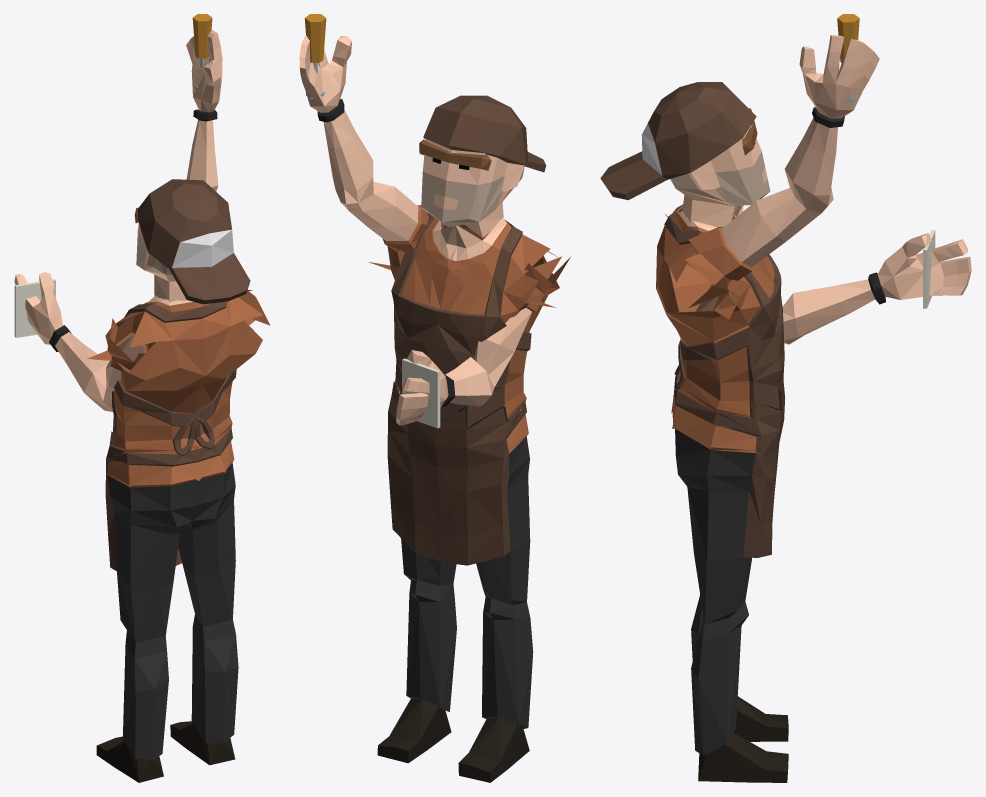
Rendered from Uncle_Toast.obj.
3 renders of one model, left to right at view 1: azimuth 30°, elevation 25°; view 2: azimuth 150°, elevation 25°; view 3: azimuth 270°, elevation 25°, orthographic. The views are drawn at different scales.
Visible parts, largest first — view 1: Uncle_Toast; view 2: Uncle_Toast; view 3: Uncle_Toast.
Boxes of the visible parts, x1=… form: Uncle_Toast: x1=14, y1=14, x2=270, y2=782; Uncle_Toast: x1=299, y1=14, x2=570, y2=782; Uncle_Toast: x1=600, y1=14, x2=971, y2=782.
Size of the model in its own units: 0.5845 by 2.14 by 0.9201.
Materials: 2 (2 with a texture image).
